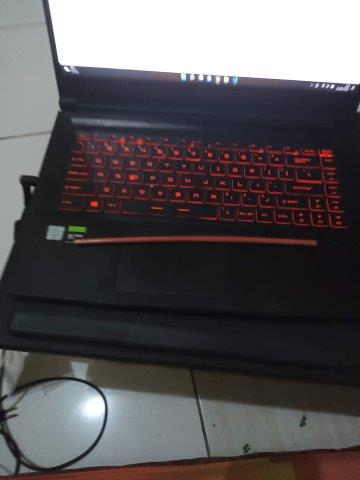sedotan: (74, 235, 317, 246)
